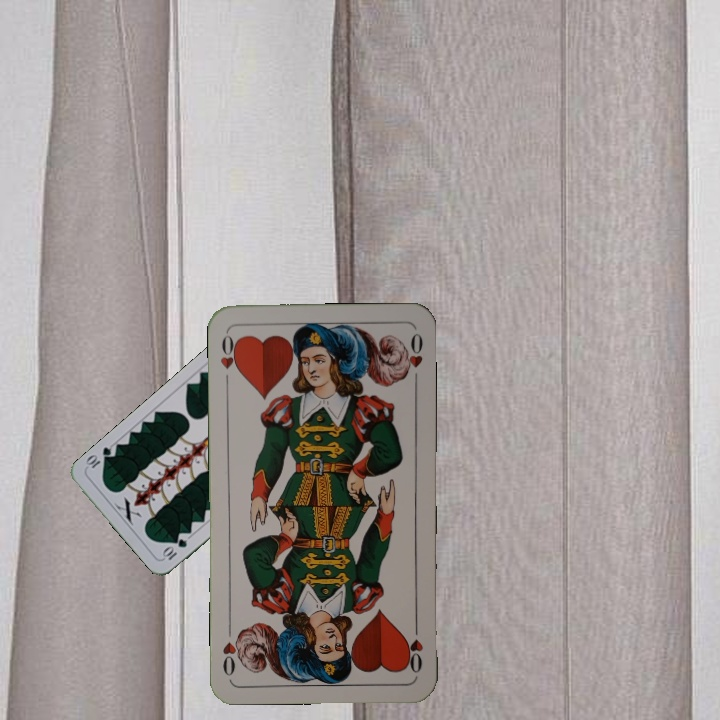G10: (159, 535, 190, 563)
HO: (216, 329, 242, 388), (402, 618, 426, 676)
